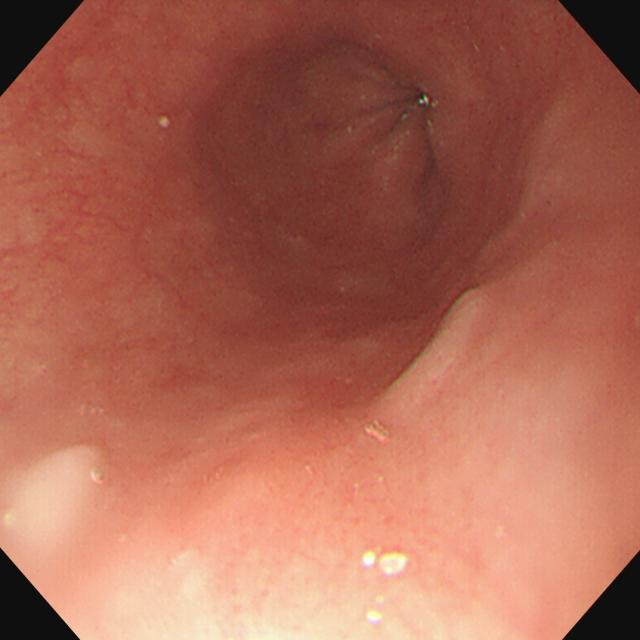I: (291, 19, 494, 240)
U: (365, 549, 411, 575)
